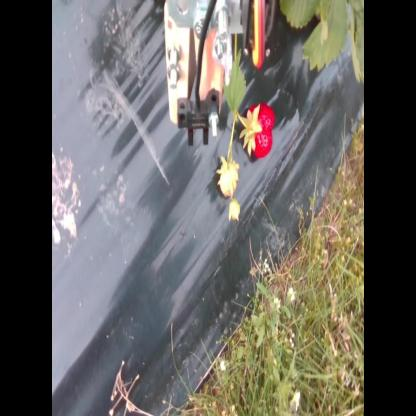ripe: (244, 102, 276, 158)
unripe: (214, 163, 242, 196)
